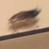cockroach: (9, 10, 40, 24)
